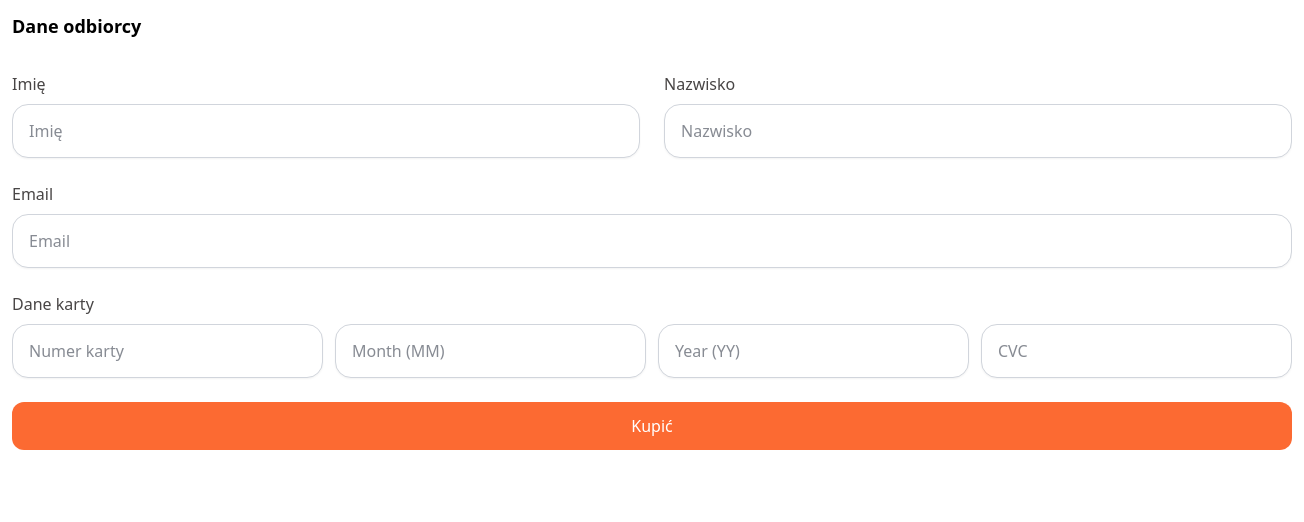
Test case: Payment › shows validation message when required fields are empty
The width and height of the screenshot is (1304, 522).
Click the button "Kupić": (652, 426) left=12, top=402, right=1292, bottom=450
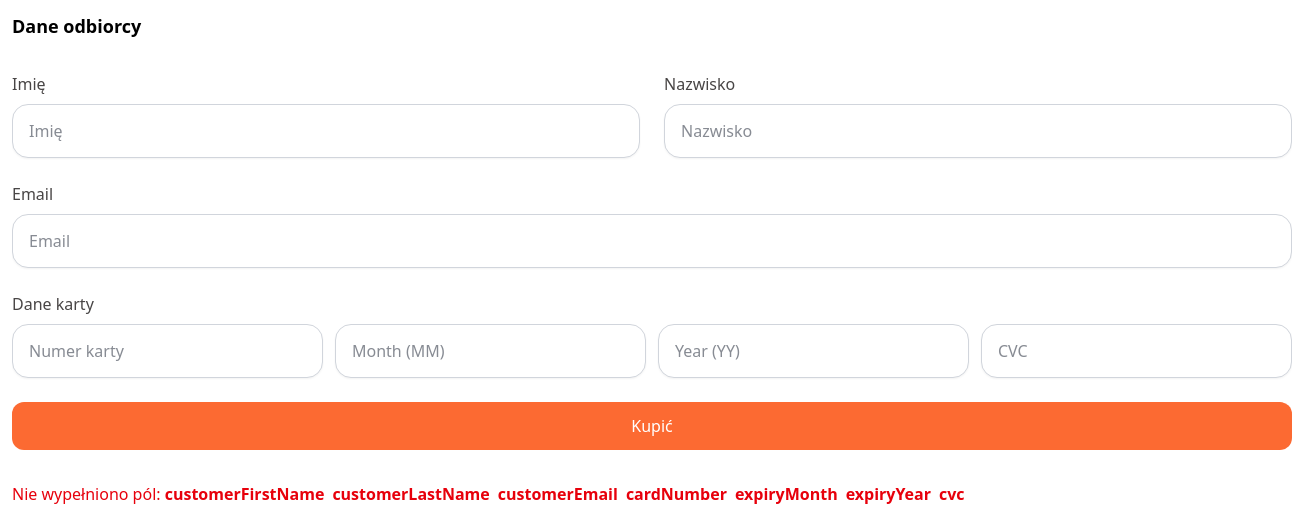
Now the text "Nie wypełniono pól:" is shown, box left=12, top=483, right=165, bottom=505
Now the text "customerFirstName" is shown, box left=165, top=483, right=324, bottom=505
Now the text "customerLastName" is shown, box left=332, top=483, right=490, bottom=505
